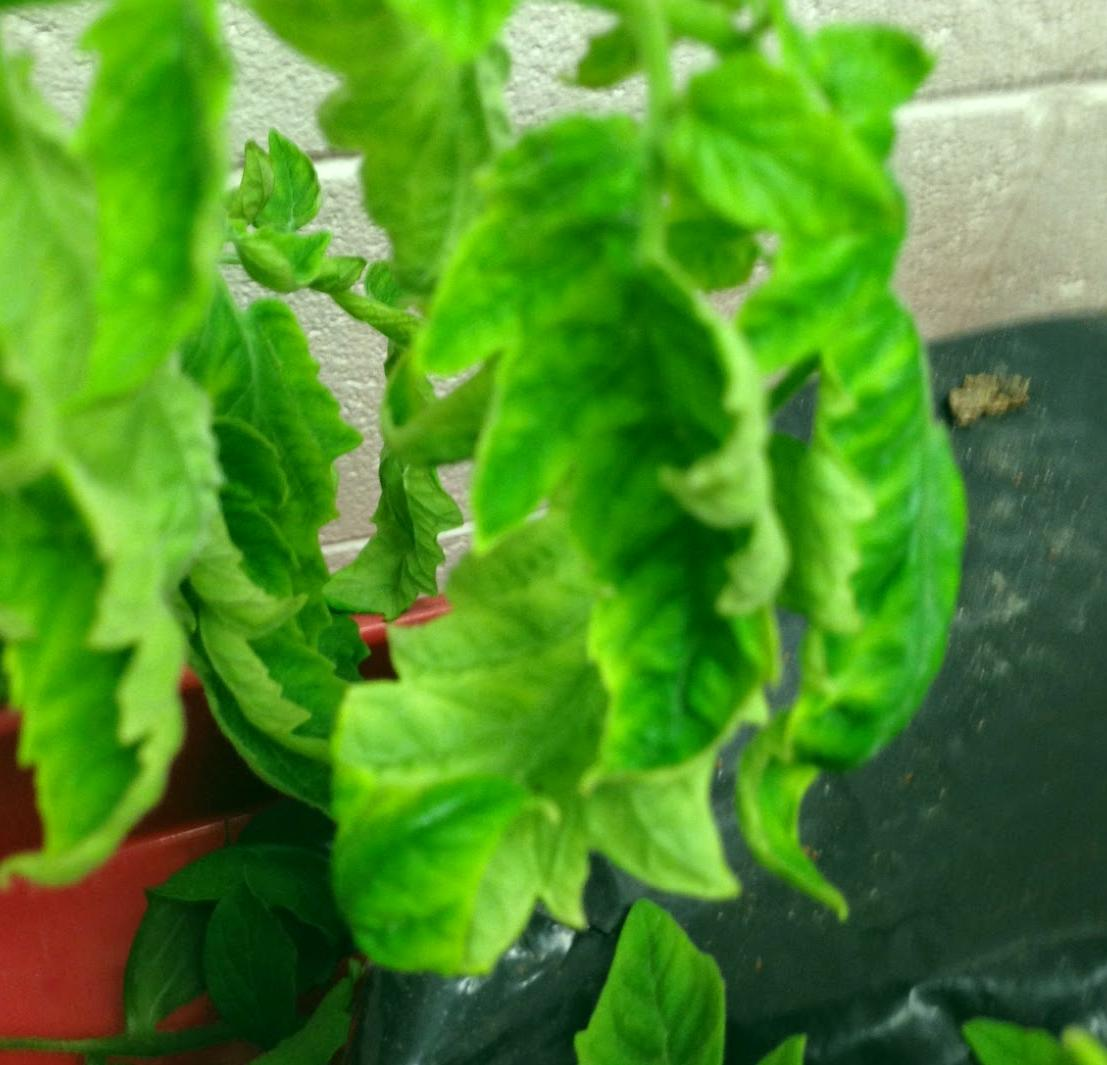Tomato leaf yellow virus: (457, 60, 800, 822), (785, 0, 1045, 787), (70, 0, 268, 425), (581, 907, 739, 1065)
